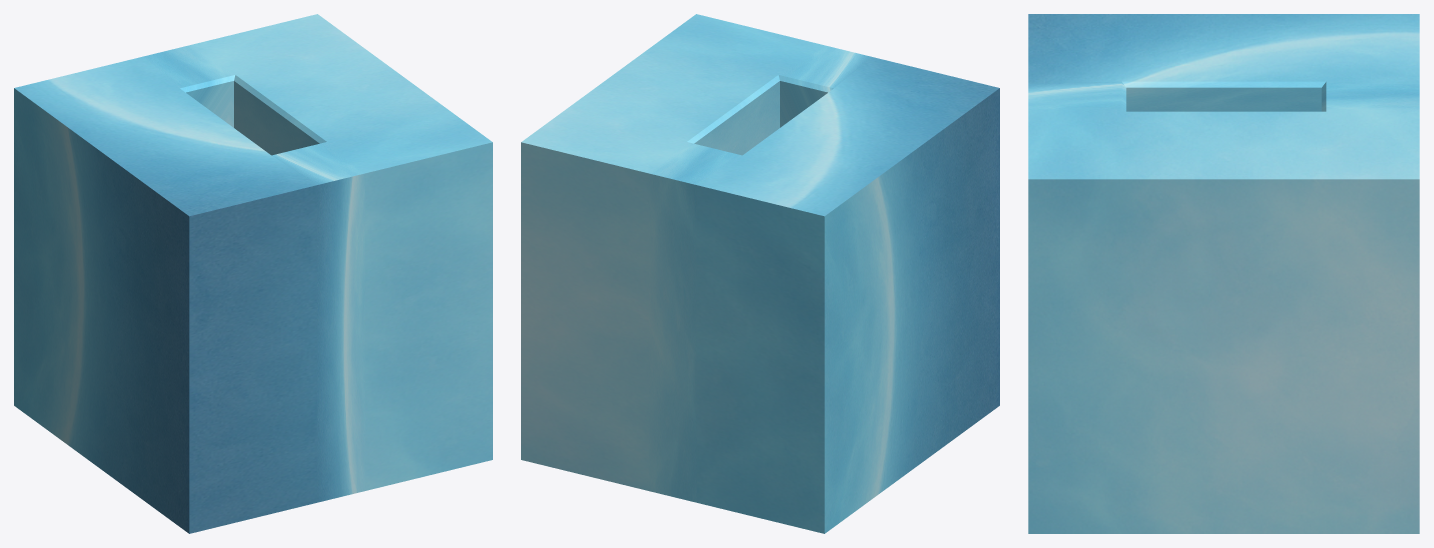
Rendered from rod_c.obj.
3 renders of one model, left to right at view 1: azimuth 30°, elevation 25°; view 2: azimuth 150°, elevation 25°; view 3: azimuth 270°, elevation 25°, orthographic. The views are drawn at different scales.
Visible parts, largest first — view 1: rod_c; view 2: rod_c; view 3: rod_c.
Boxes of the visible parts, bbox=[...] form: rod_c: bbox=[14, 14, 492, 533]; rod_c: bbox=[521, 14, 999, 533]; rod_c: bbox=[1028, 14, 1419, 533].
Bounding box in the file's own units: 0.9703 × 0.9703 × 0.9703.
1 material, 1 textured.
